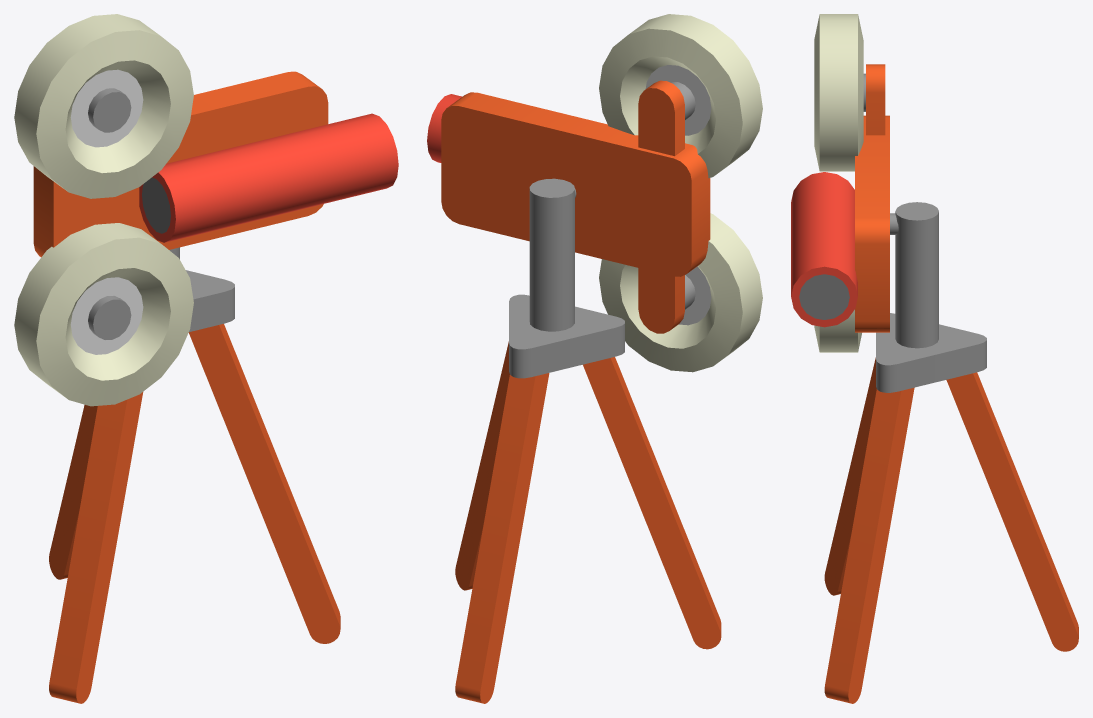
File: Pitching Machine .fbx
3 renders of one model, left to right at view 1: azimuth 30°, elevation 25°; view 2: azimuth 150°, elevation 25°; view 3: azimuth 270°, elevation 25°, orthographic. The views are drawn at different scales.
Visible parts, largest first — view 1: Pitching Machine, Pitching Machine Stand, Pitching Machine Wheel.001, Pitching Machine Wheel; view 2: Pitching Machine, Pitching Machine Stand, Pitching Machine Wheel.001, Pitching Machine Wheel, Pitching Machine Stand.001; view 3: Pitching Machine Stand, Pitching Machine, Pitching Machine Wheel.001, Pitching Machine Stand.001, Pitching Machine Wheel.
Part boxes in pixels (x1,y1,x2,y2): Pitching Machine: (33, 71, 398, 339); Pitching Machine Stand: (49, 270, 340, 703); Pitching Machine Wheel.001: (14, 14, 193, 198); Pitching Machine Wheel: (14, 223, 193, 406); Pitching Machine: (427, 80, 710, 333); Pitching Machine Stand: (455, 294, 721, 703); Pitching Machine Wheel.001: (599, 14, 762, 178); Pitching Machine Wheel: (599, 213, 762, 372); Pitching Machine Stand.001: (529, 178, 574, 331); Pitching Machine Stand: (824, 313, 1078, 703); Pitching Machine: (791, 64, 898, 332); Pitching Machine Wheel.001: (814, 14, 863, 171); Pitching Machine Stand.001: (895, 202, 938, 348); Pitching Machine Wheel: (814, 309, 861, 352).
Size of the model in its own units: 203 by 376 by 168.
